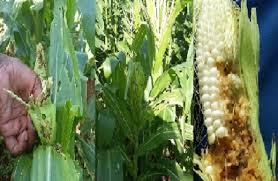fallarmy_worm: (219, 59, 233, 81)
